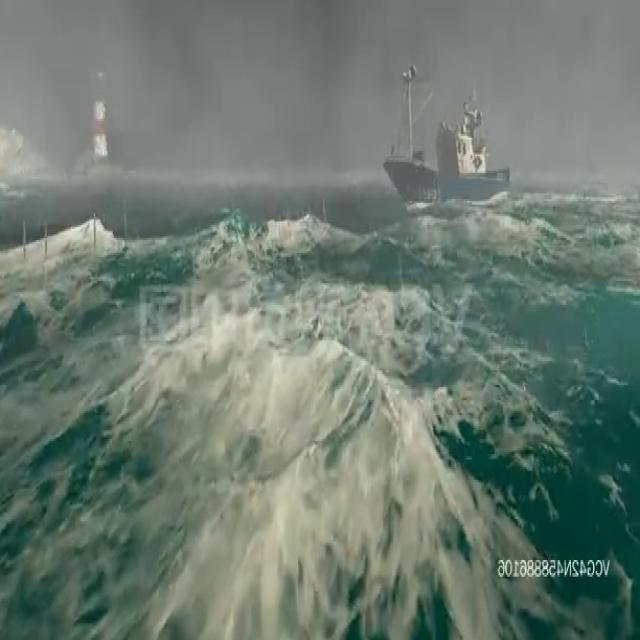fishing boat: (389, 70, 513, 206)
